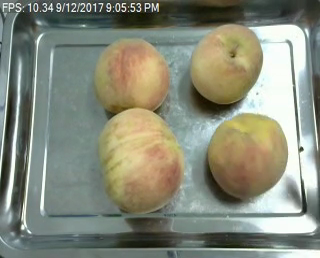Peach: (98, 108, 181, 215), (206, 113, 289, 199), (94, 36, 171, 115), (187, 22, 262, 102)
